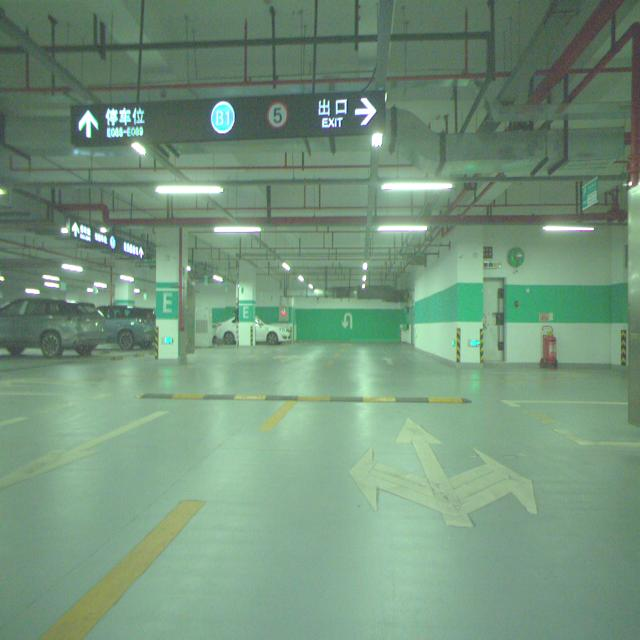pillar: (156, 231, 189, 360)
